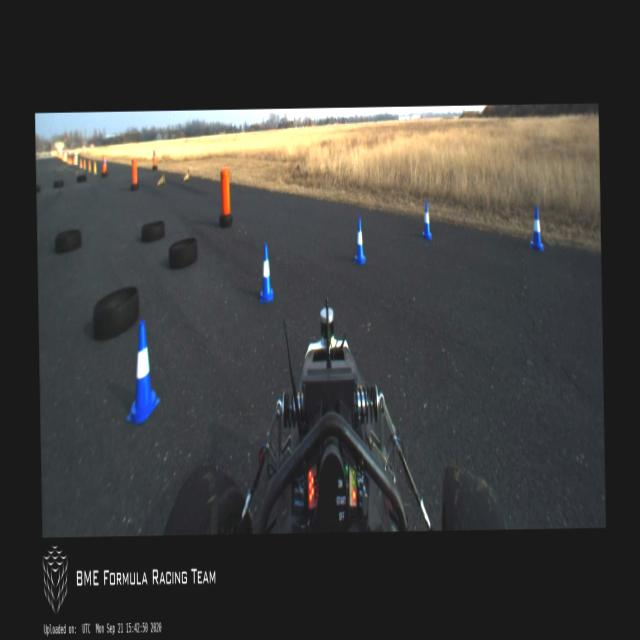blue_cone: (124, 320, 160, 422), (259, 242, 273, 302), (529, 206, 543, 252), (353, 218, 366, 264), (421, 200, 432, 240)
